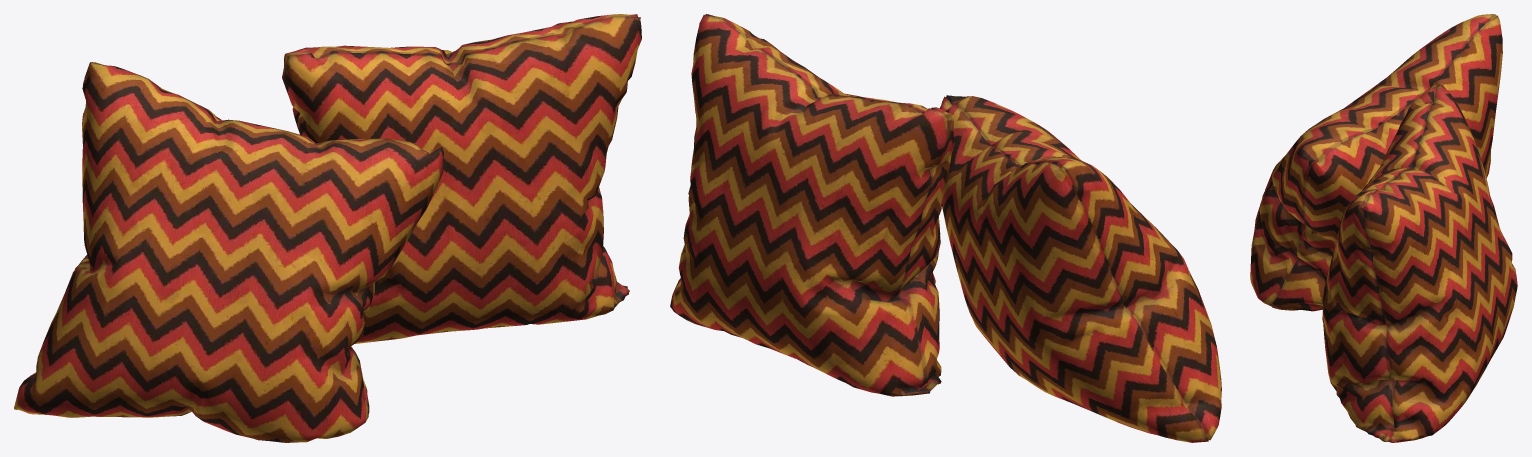
The model's file is throw_pillows_01.glb.
3 renders of one model, left to right at view 1: azimuth 30°, elevation 25°; view 2: azimuth 150°, elevation 25°; view 3: azimuth 270°, elevation 25°, orthographic. The views are drawn at different scales.
Visible parts, largest first — view 1: throw_pillows_01_pillow02; view 2: throw_pillows_01_pillow02; view 3: throw_pillows_01_pillow02.
Part boxes in pixels (<box>): throw_pillows_01_pillow02: <box>14,14,641,442</box>; throw_pillows_01_pillow02: <box>670,14,1221,442</box>; throw_pillows_01_pillow02: <box>1250,14,1517,442</box>.
Size of the model in its own units: 0.9401 by 0.4502 by 0.4519.
1 material, 1 textured.
